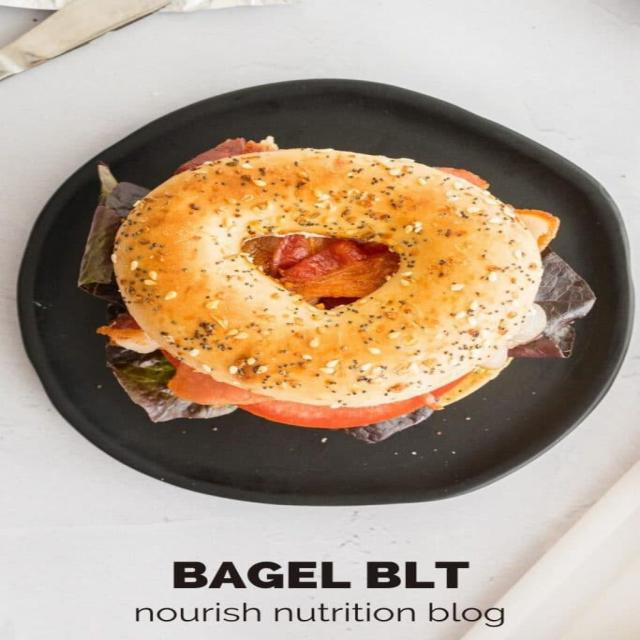Bagel: (112, 149, 542, 408)
